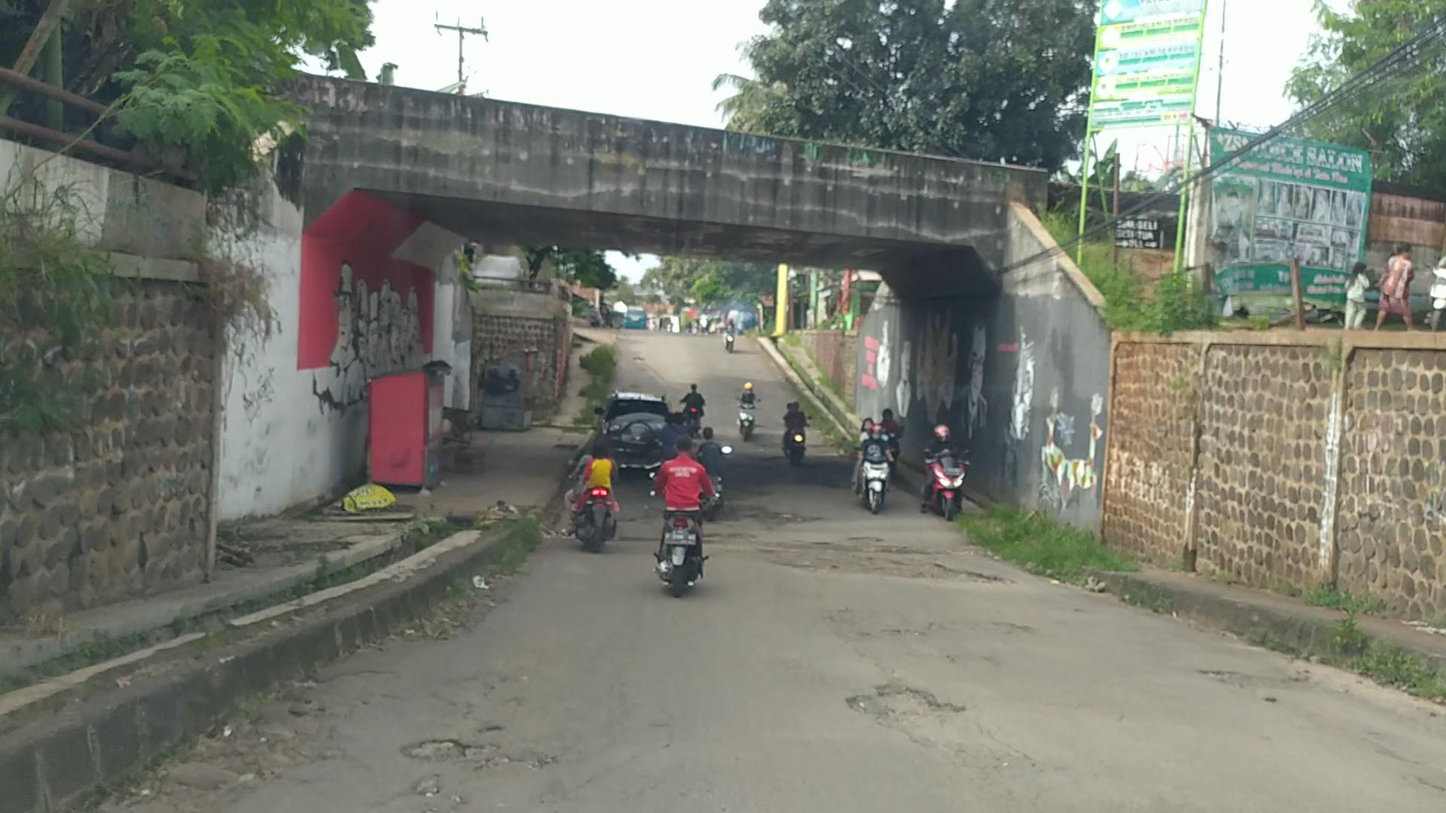pothole: (754, 533, 994, 582), (410, 730, 504, 769), (857, 678, 951, 713)
